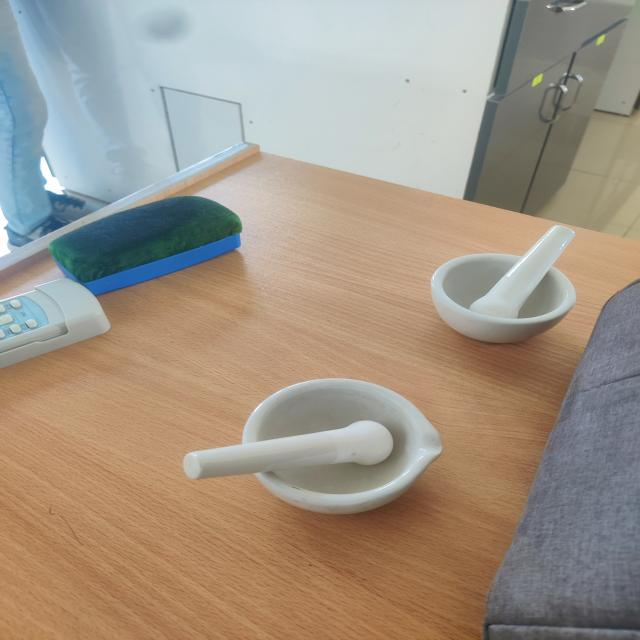Porcelain_Mortar Pestle: (169, 357, 466, 535), (423, 213, 599, 362)
